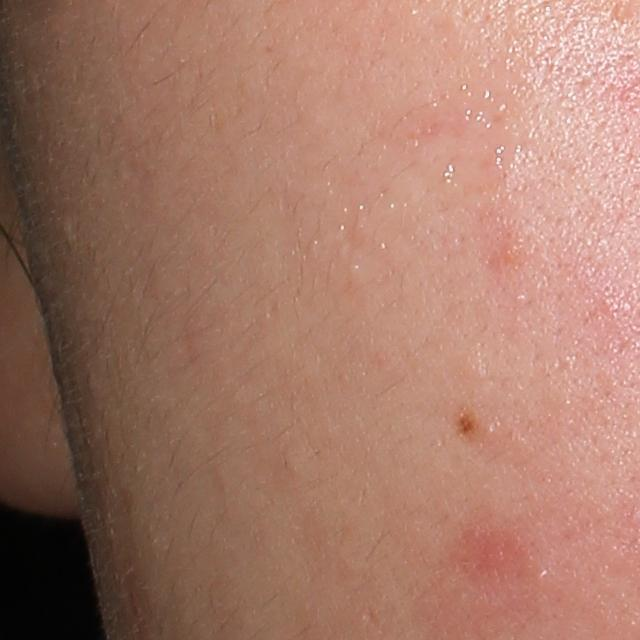nevus: (450, 409, 479, 441)
